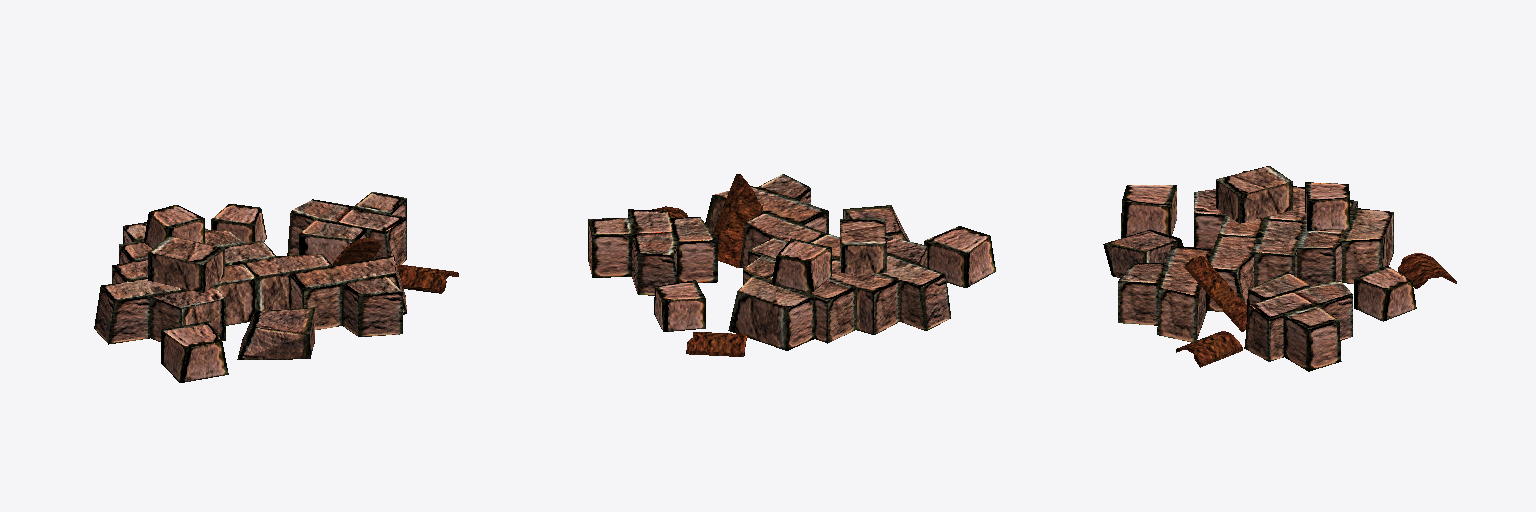
3 views of the same model, side by side, from view 1: azimuth 30°, elevation 25°; view 2: azimuth 150°, elevation 25°; view 3: azimuth 270°, elevation 25° (orthographic).
Visible parts, largest first — view 1: Rubble_02; view 2: Rubble_02; view 3: Rubble_02.
Part boxes in pixels (left/top/right/bottom): Rubble_02: left=94, top=192, right=458, bottom=382; Rubble_02: left=588, top=174, right=995, bottom=356; Rubble_02: left=1103, top=166, right=1456, bottom=371.
Size of the model in its own units: 154 by 32.6 by 143.
Materials: 1 (1 with a texture image).